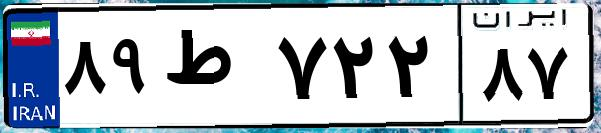2: (385, 28, 445, 110), (330, 28, 385, 110)
7: (270, 28, 330, 110), (525, 38, 570, 115)
8: (57, 26, 110, 100), (475, 38, 525, 113)
9: (110, 28, 158, 98)
ط: (158, 20, 270, 120)
